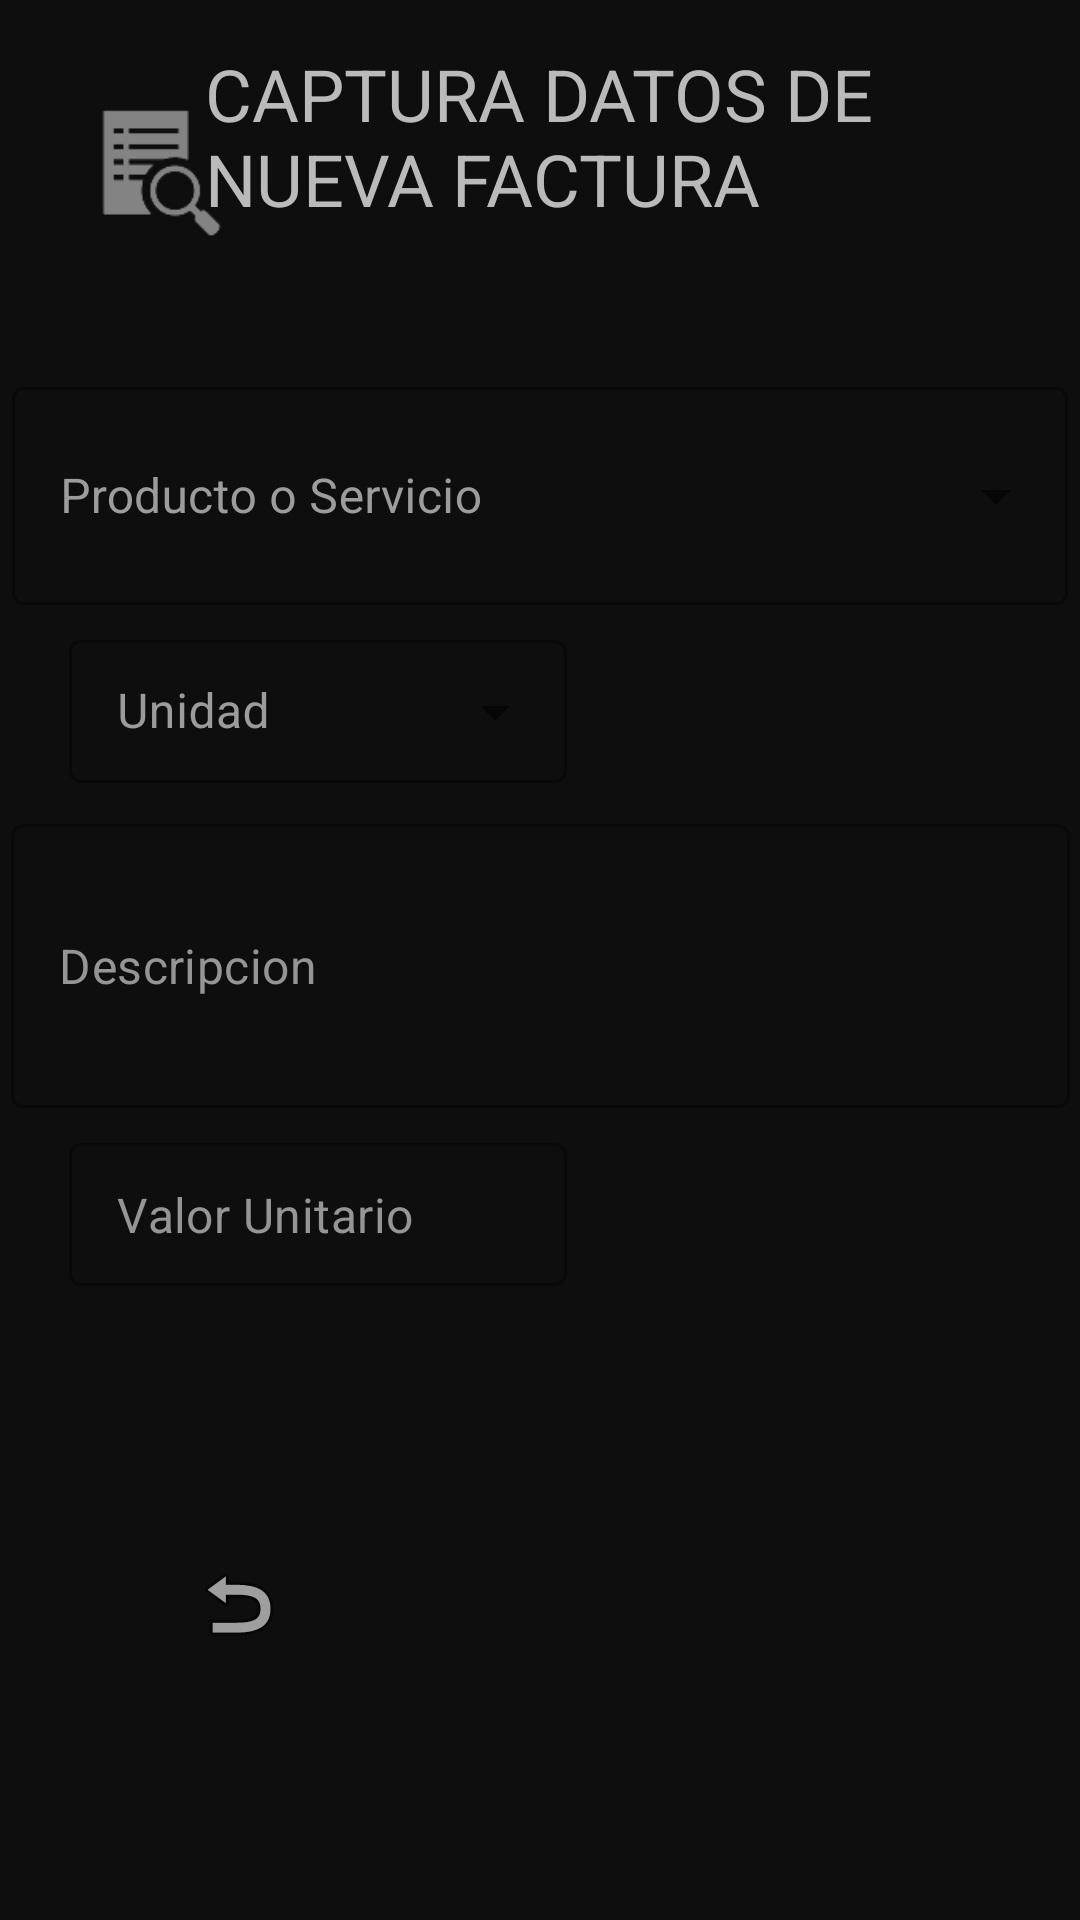

Icon click points for this 1080x1920 phone screenshot, format point (x, y):
revert: point (239, 1604)
